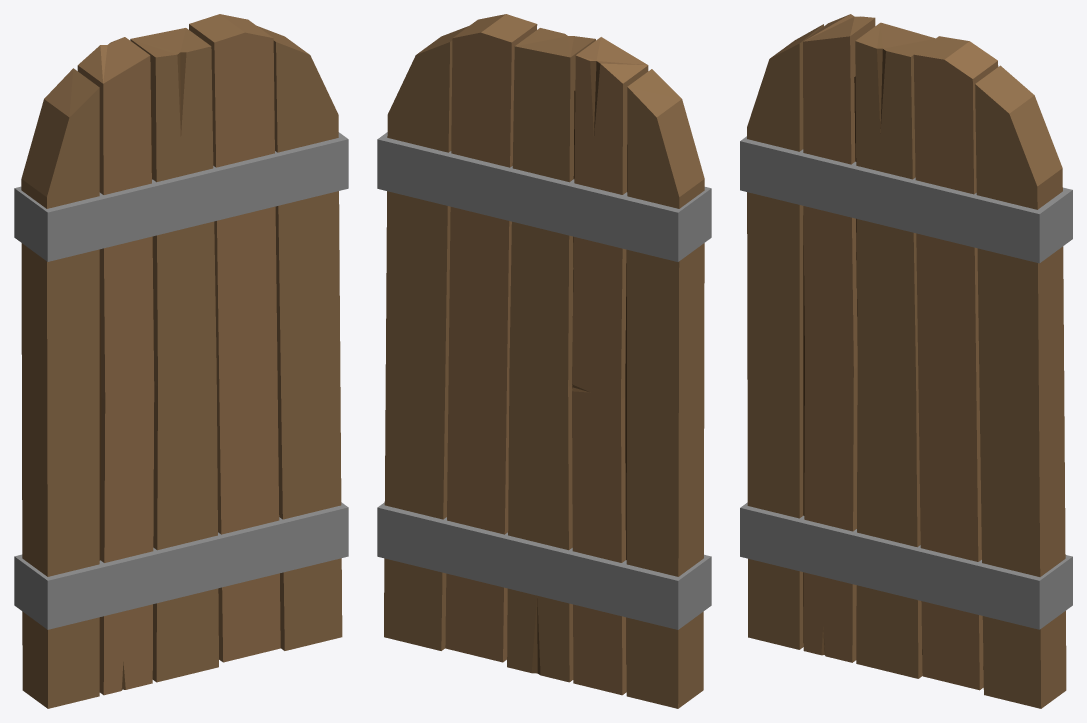
The model's file is Door_04_dra.glb.
3 renders of one model, left to right at view 1: azimuth 30°, elevation 25°; view 2: azimuth 150°, elevation 25°; view 3: azimuth 330°, elevation 25°, orthographic.
Visible parts, largest first — view 1: Door_04; view 2: Door_04; view 3: Door_04.
Part boxes in pixels (x1,y1,x2,y2): Door_04: (14,14,348,708); Door_04: (377,14,711,708); Door_04: (740,14,1072,708).
Bounding box in the file's own units: 1.03 × 2.05 × 0.1971.
1 material, 1 textured.
